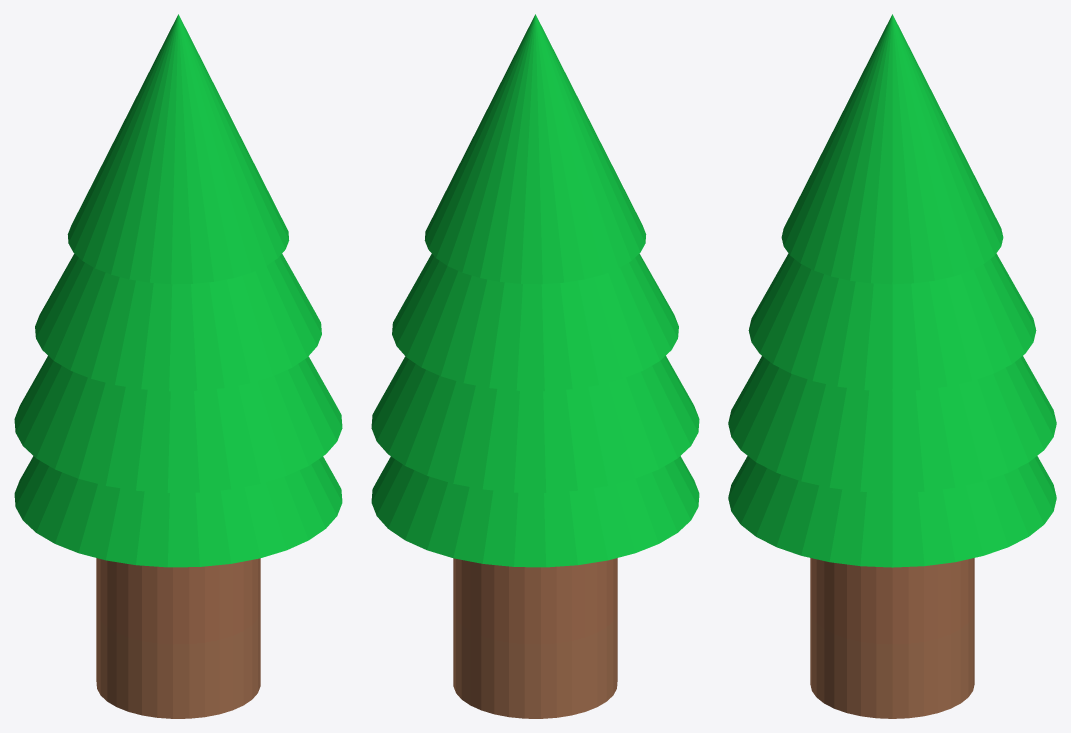
File: tree.fbx
3 renders of one model, left to right at view 1: azimuth 30°, elevation 25°; view 2: azimuth 150°, elevation 25°; view 3: azimuth 270°, elevation 25°, orthographic.
Visible parts, largest first — view 1: Cone.003, Cone.001, Cone.002, Cylinder, Cone; view 2: Cone.003, Cone.001, Cone.002, Cylinder, Cone; view 3: Cone.003, Cone.001, Cone.002, Cylinder, Cone.
Boxes of the visible parts, left/top/right/bottom form: Cone.003: left=67, top=14, right=289, bottom=284; Cone.001: left=14, top=356, right=342, bottom=492; Cone.002: left=35, top=253, right=321, bottom=391; Cylinder: left=96, top=558, right=260, bottom=718; Cone: left=14, top=456, right=342, bottom=567; Cone.003: left=424, top=14, right=646, bottom=284; Cone.001: left=371, top=356, right=699, bottom=492; Cone.002: left=392, top=253, right=678, bottom=391; Cylinder: left=453, top=558, right=617, bottom=718; Cone: left=371, top=456, right=699, bottom=567; Cone.003: left=781, top=14, right=1003, bottom=284; Cone.001: left=728, top=356, right=1056, bottom=492; Cone.002: left=748, top=253, right=1036, bottom=391; Cylinder: left=810, top=558, right=974, bottom=718; Cone: left=728, top=456, right=1056, bottom=567.
Bounding box in the file's own units: 400 × 900 × 400.
